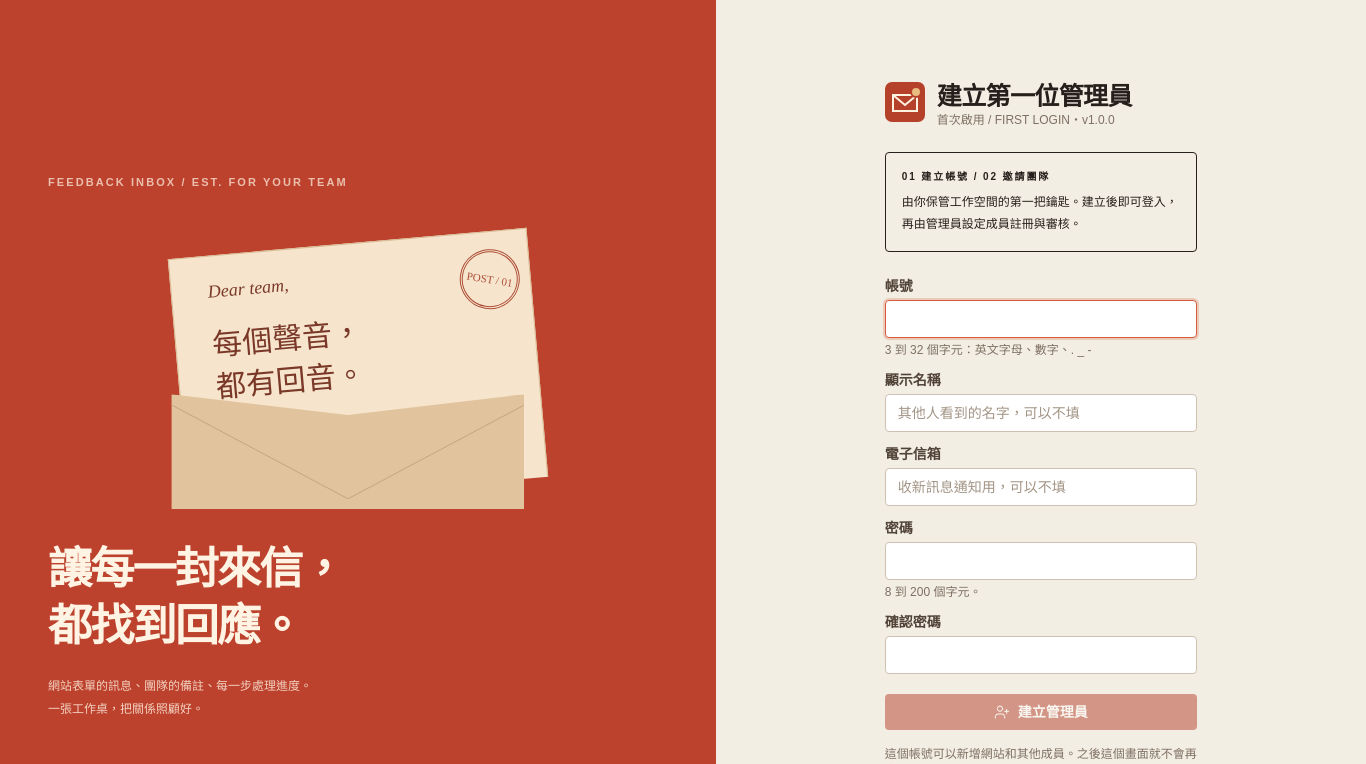
Test case: 第一次使用要先建立管理員
The width and height of the screenshot is (1366, 764).
Type "nat" into the field labelled "帳號" at coordinates (1041, 319), box left=885, top=300, right=1197, bottom=338
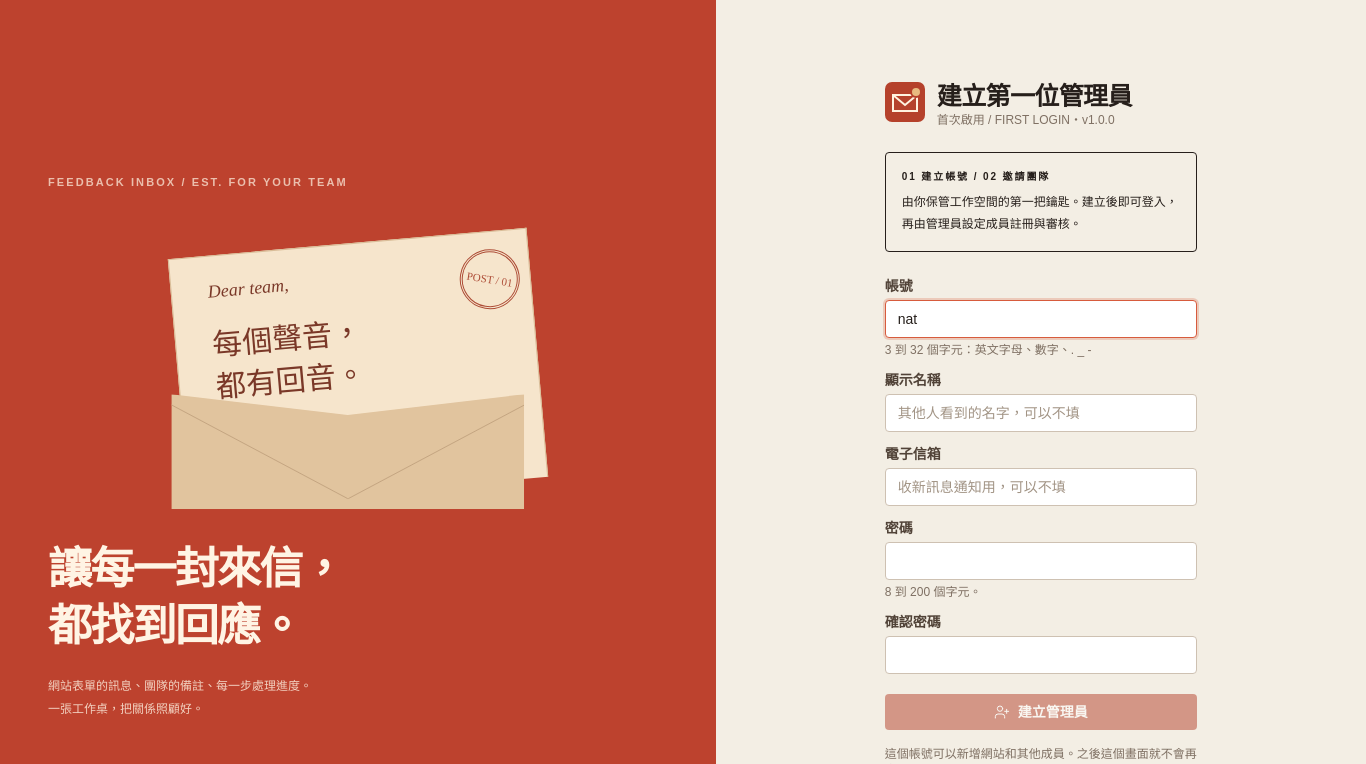
Type "correct horse" into the password field labelled "密碼" at coordinates (1041, 561), box left=885, top=542, right=1197, bottom=580
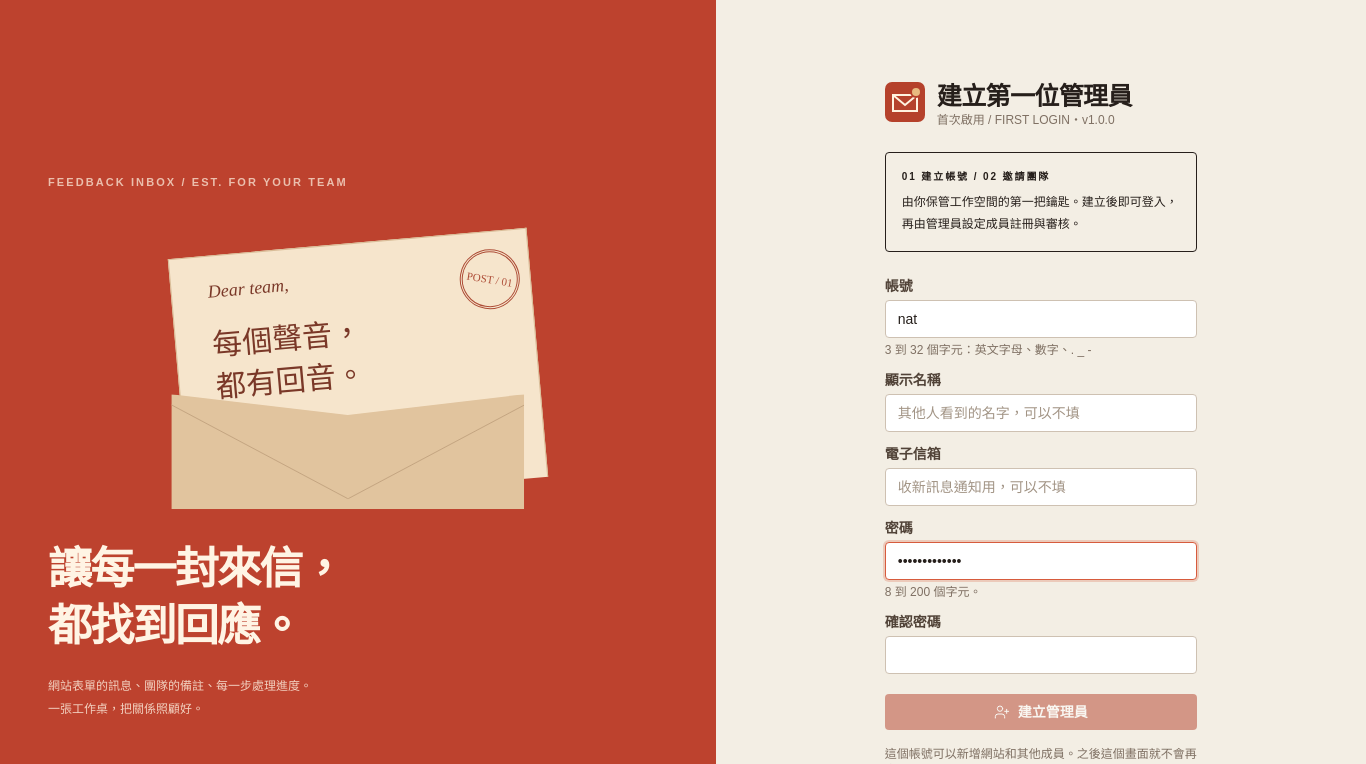
Type "correct horse" into the password field labelled "確認密碼" at coordinates (1041, 655), box left=885, top=636, right=1197, bottom=674
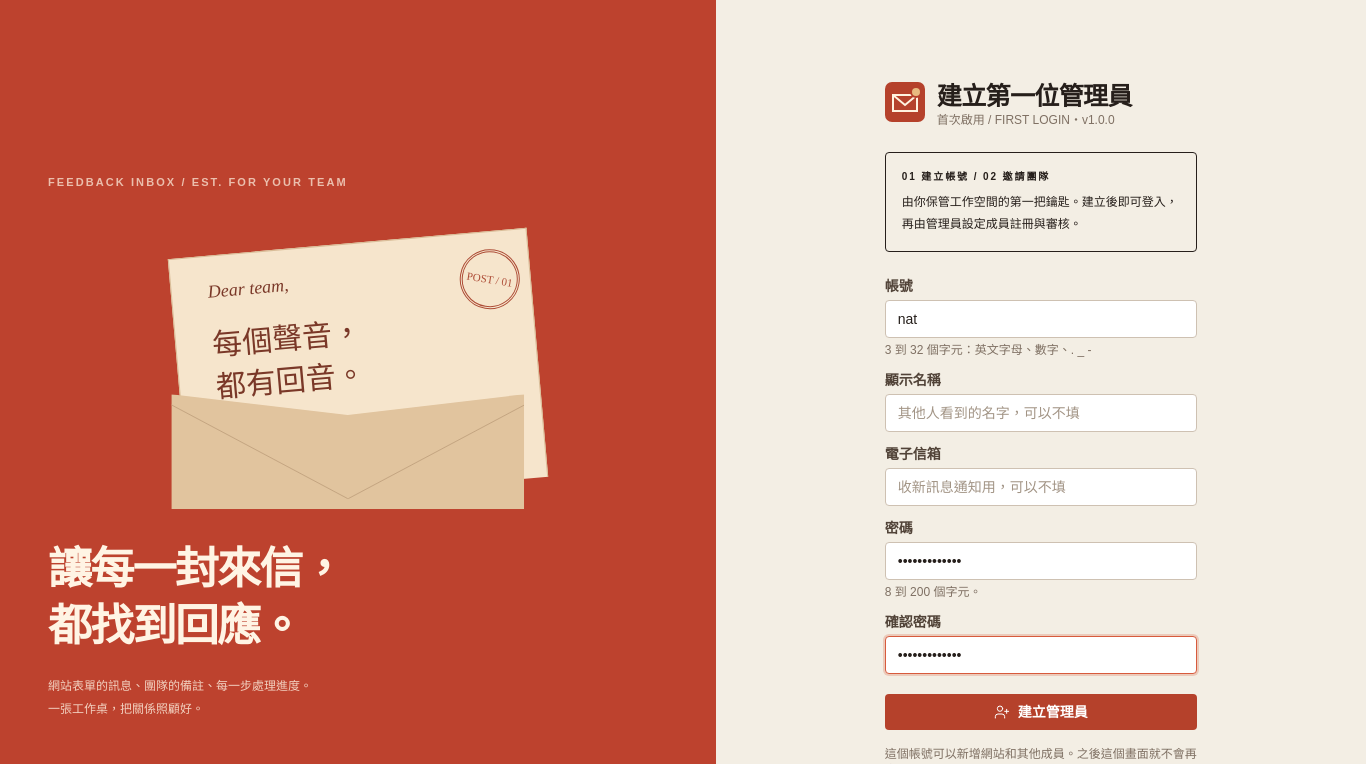
Click the button "建立管理員" at coordinates (1041, 712), box left=885, top=694, right=1197, bottom=730
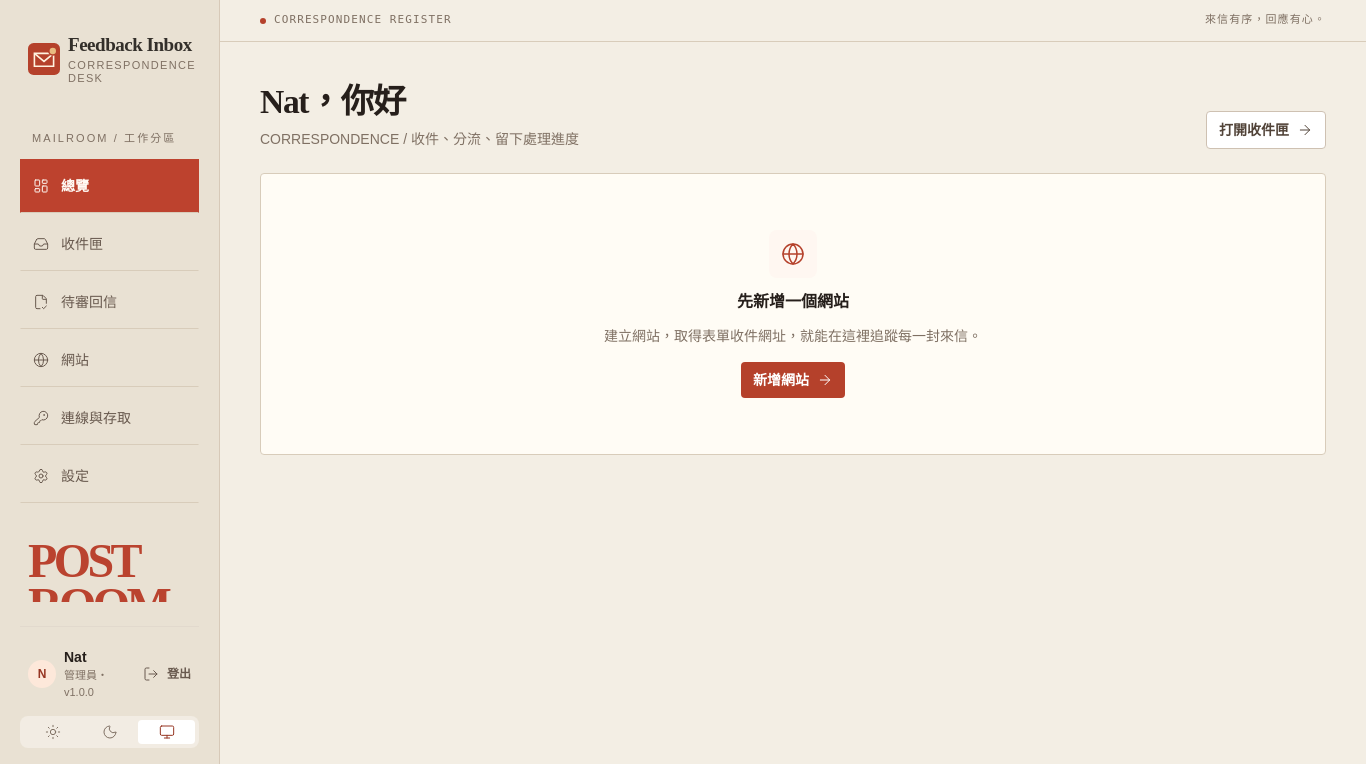
Now the button "登出" is shown, box left=135, top=658, right=199, bottom=690
